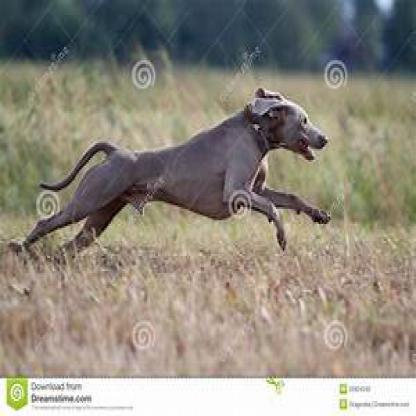dog: (11, 85, 333, 256)
